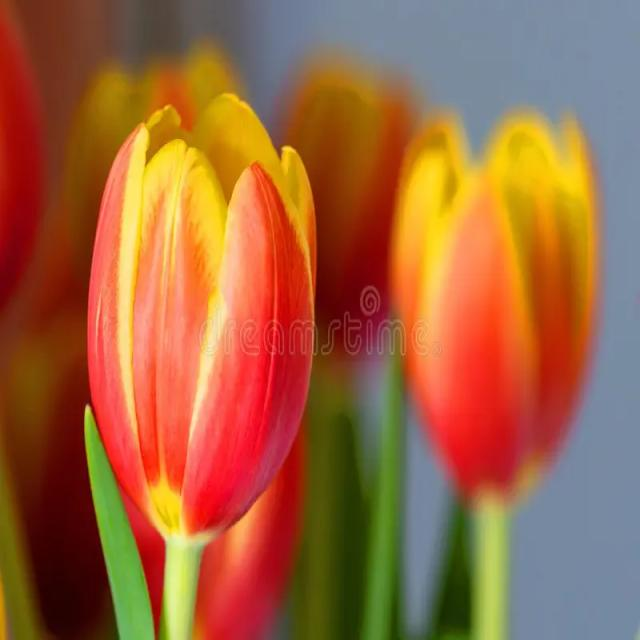Bloomed: (84, 89, 318, 551)
